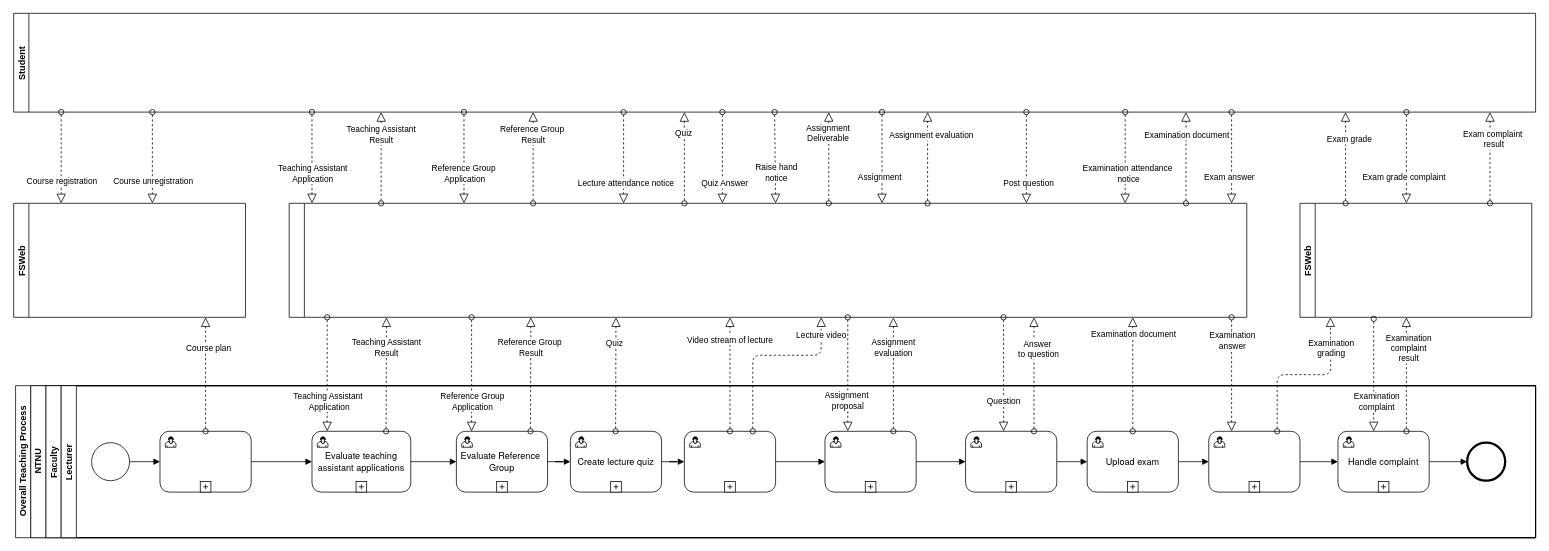
This 1549x551 diagram has some shape labels left out. The shapes that lost their labels are listed below. From the top down, each one's centre as x and y in pixels, then its label:
the point at 767,260: Teaching Platform 2.0
the point at 205,461: Register course semester plan
the point at 730,461: Perform lecture
the point at 870,461: Evaluate Course assignment
the point at 1011,461: Address question
the point at 1254,461: Evaluate examination
